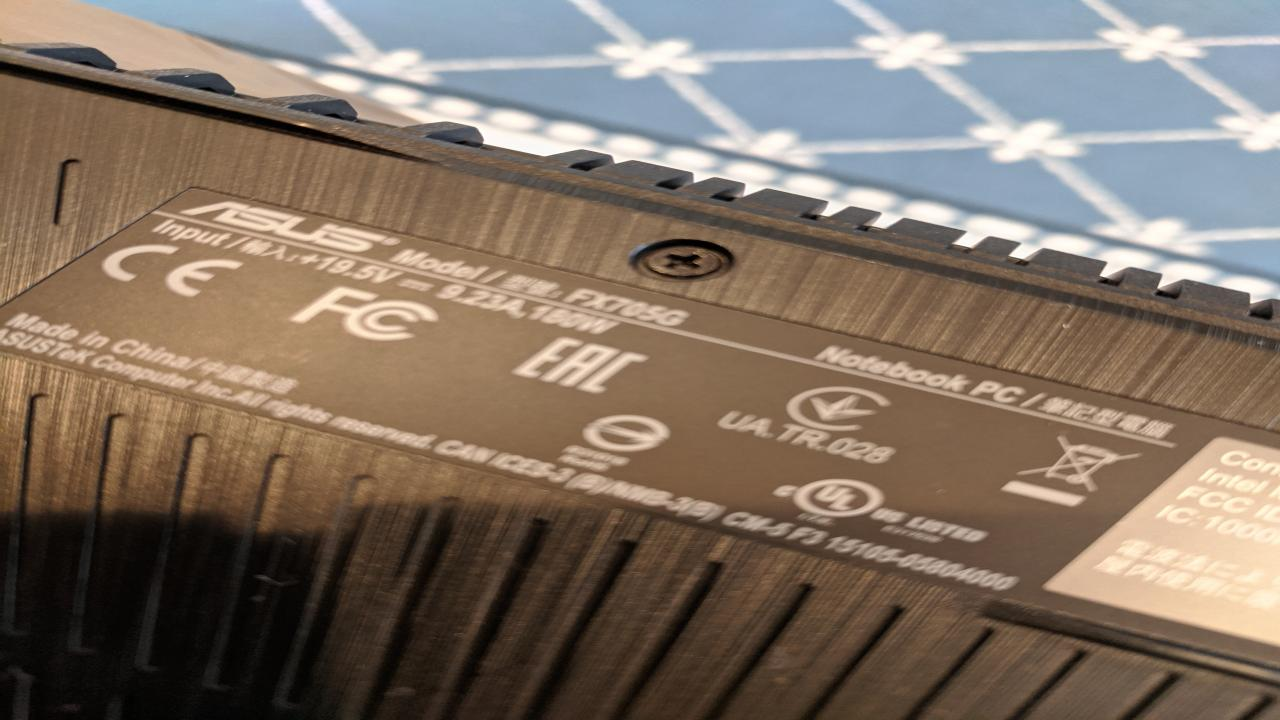CRS: (640, 247, 726, 277)
